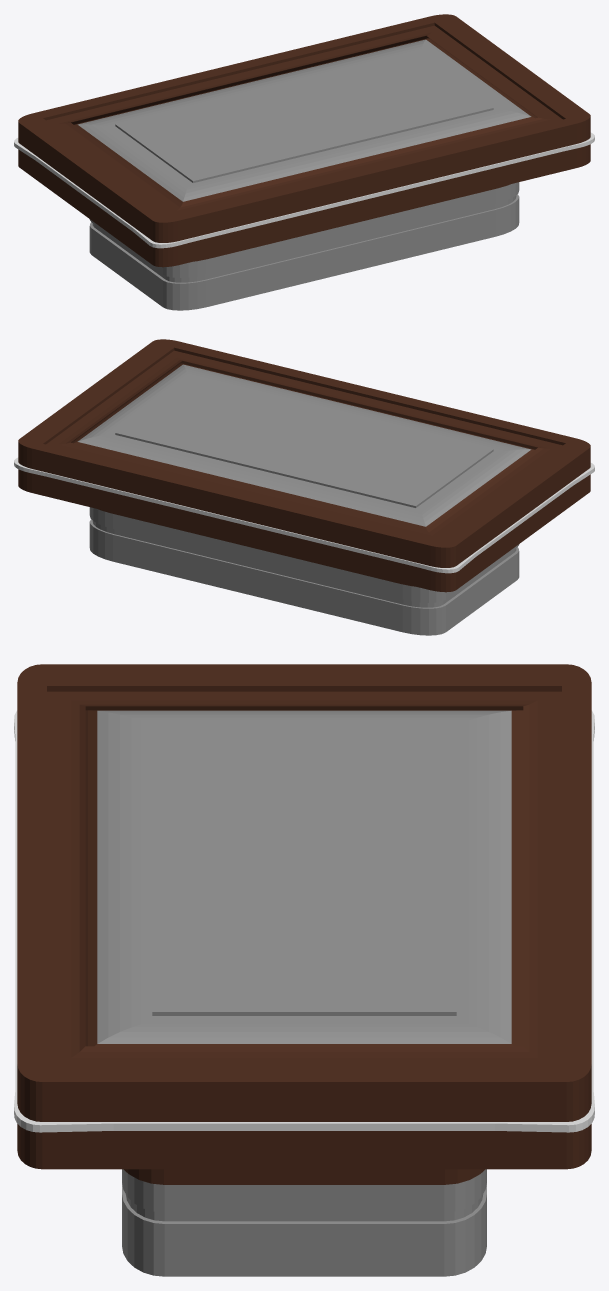
Rendered from table.fbx.
3 views of the same model, one above another, from view 1: azimuth 30°, elevation 25°; view 2: azimuth 150°, elevation 25°; view 3: azimuth 270°, elevation 25° (orthographic). The views are drawn at different scales.
Parts seen in each view (by area): view 1: Cube; view 2: Cube; view 3: Cube.
Part boxes in pixels (<box>): Cube: <box>14,14,594,310</box>; Cube: <box>14,339,594,635</box>; Cube: <box>14,664,594,1276</box>.
Size of the model in its own units: 765 by 201 by 443.
